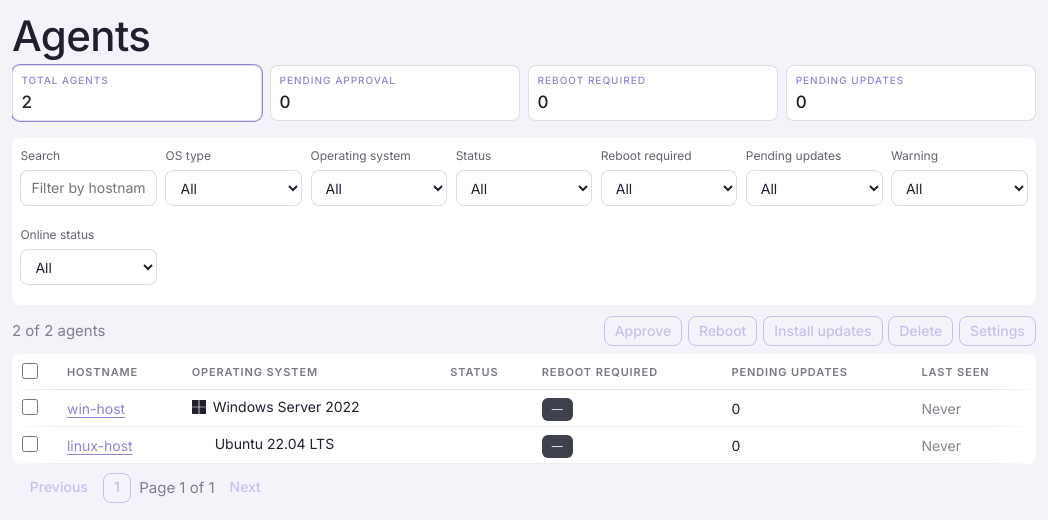
Test: AgentsListPage › only selects the currently filtered rows via the header checkbox, leaving hidden rows untouched
Expected: the link "win-host" is shown, [67,400,125,417]
Step 1. Select "Linux" in the dropdown labelled "OS type" → (234, 188), box [166,170,302,206]
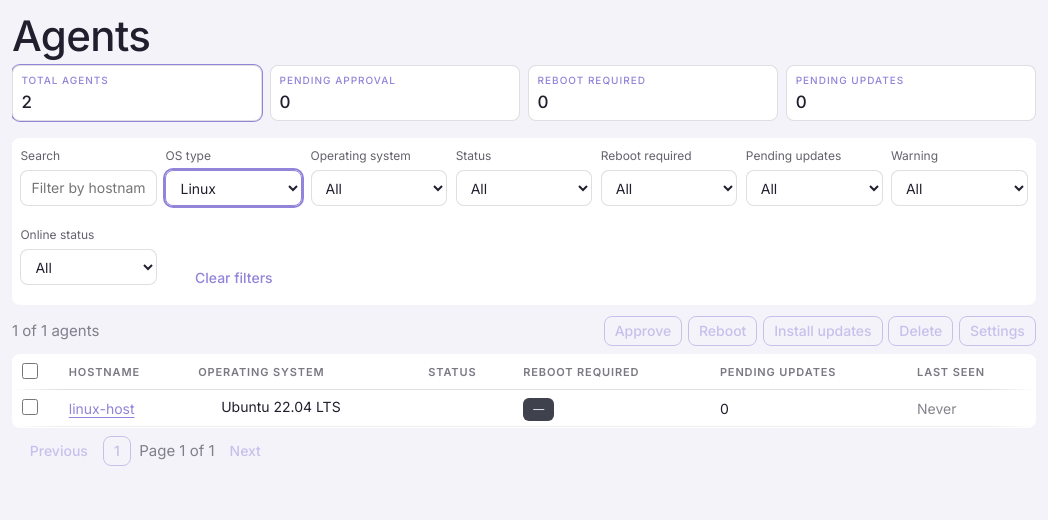
Step 2. Click the checkbox named "Select all" → (30, 371), box [22,363,38,379]
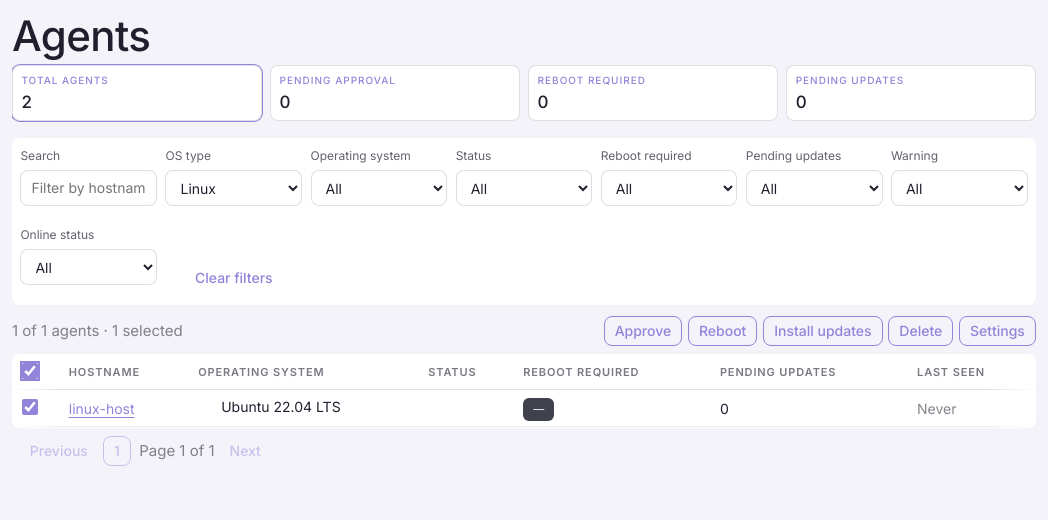
Expected: the checkbox named "select linux-host" is checked, [22,399,38,415]
Step 3. Click the button "Clear filters" → (234, 278), box [166,260,302,296]
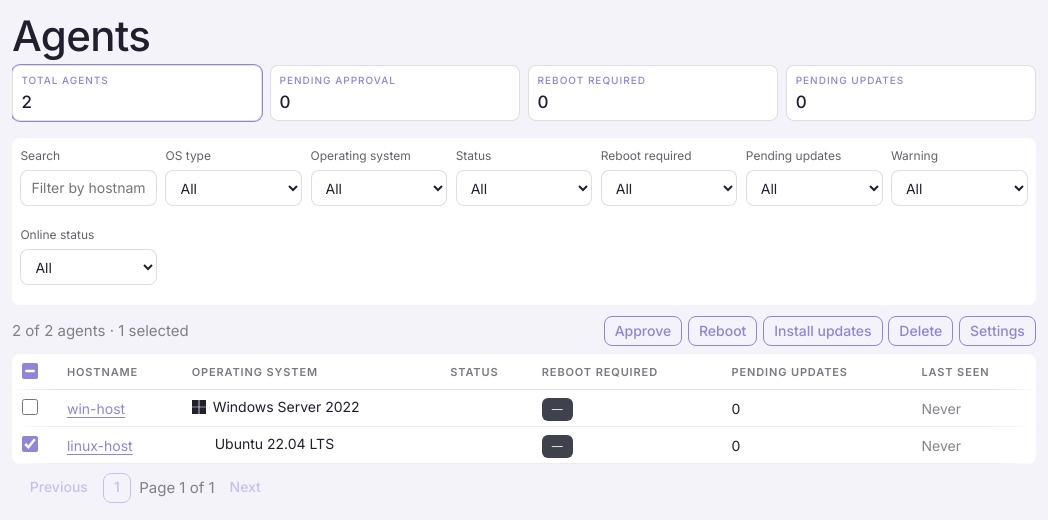
Expected: the checkbox named "select win-host" is not checked, [22,399,38,415]
